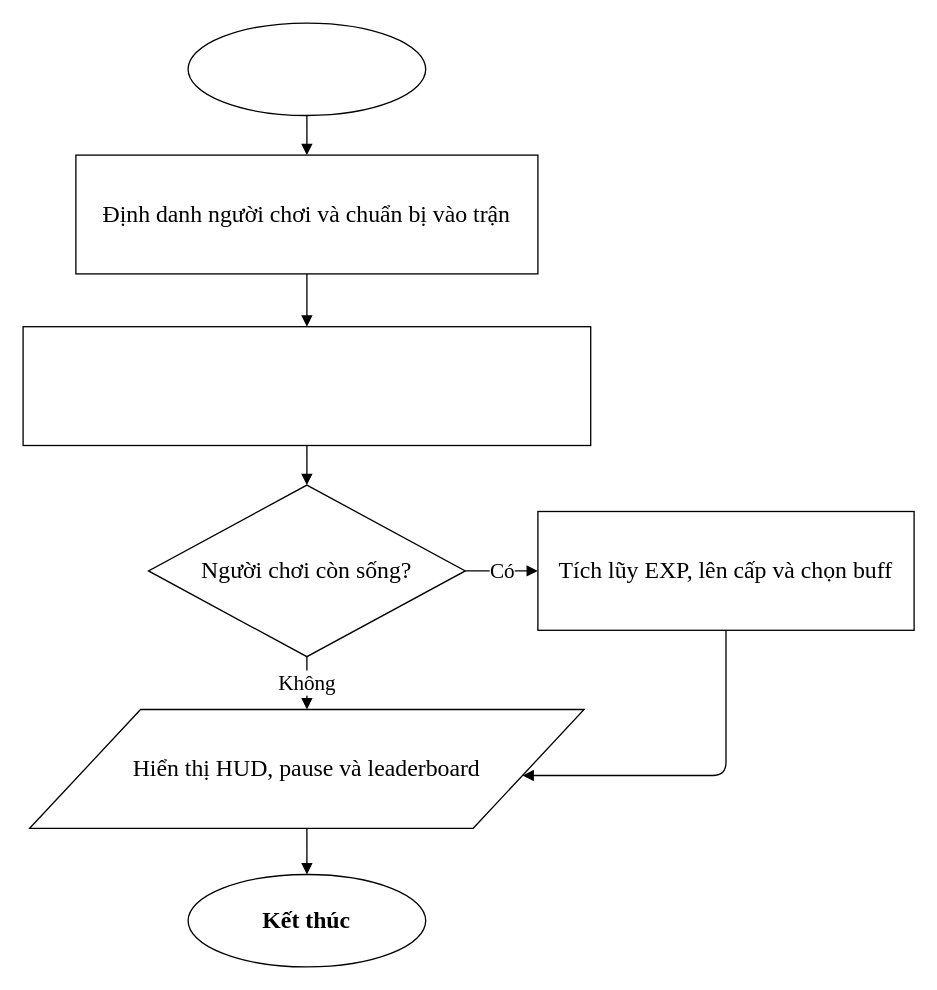
Some shapes in this 937 by 990 pixel diagram are drawn without their labels. Each missing label, with the centre of its shape:
Bắt đầu: the point at 306,69
Vận hành gameplay: điều khiển, chiến đấu, wave, enemy: the point at 306,385
